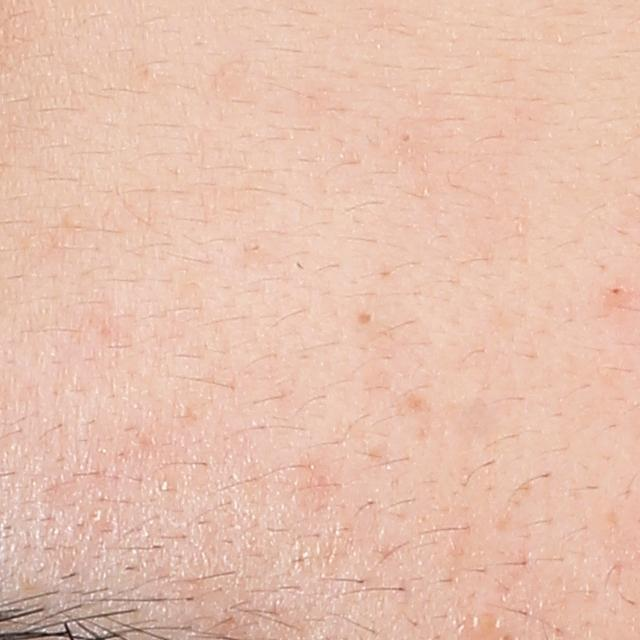comedo: (358, 312, 374, 328)
